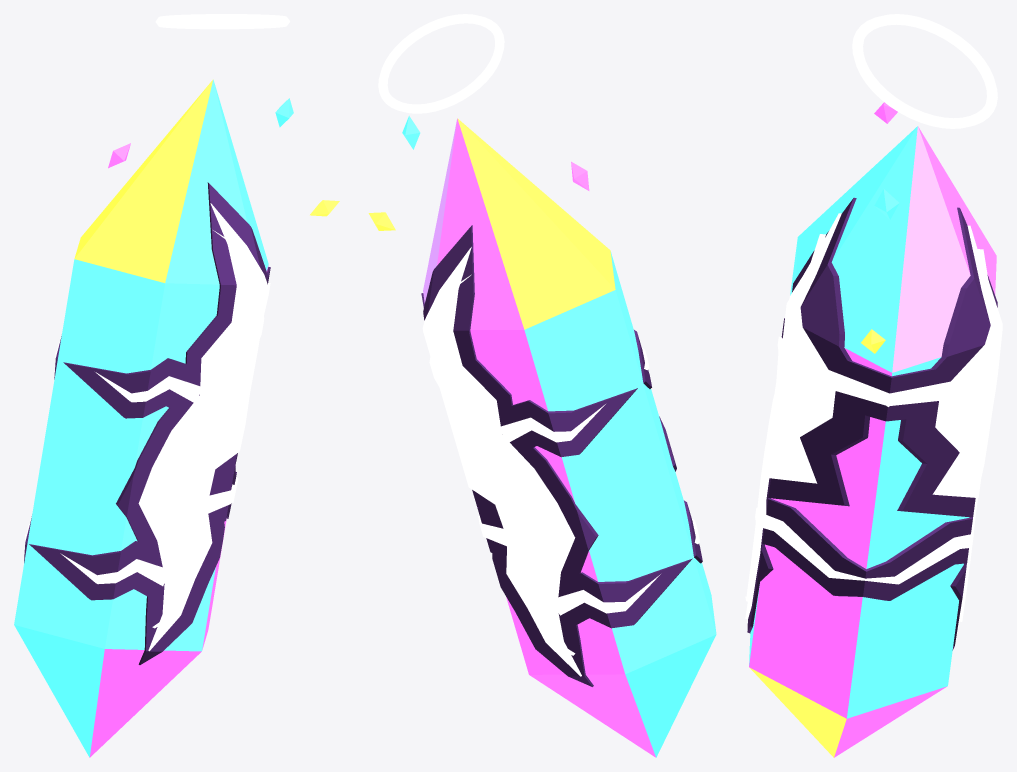
File: aetherift_shard.glb
3 views of the same model, side by side, from view 1: azimuth 30°, elevation 25°; view 2: azimuth 150°, elevation 25°; view 3: azimuth 270°, elevation 25° (orthographic). The views are drawn at different scales.
Parts seen in each view (by area): view 1: aetherift_shard; view 2: aetherift_shard; view 3: aetherift_shard.
Boxes of the visible parts, x1=… form: aetherift_shard: x1=14, y1=14, x2=339, y2=757; aetherift_shard: x1=368, y1=14, x2=716, y2=757; aetherift_shard: x1=745, y1=14, x2=1002, y2=757.
Bounding box in the file's own units: 0.1202 × 0.24 × 0.0682.
